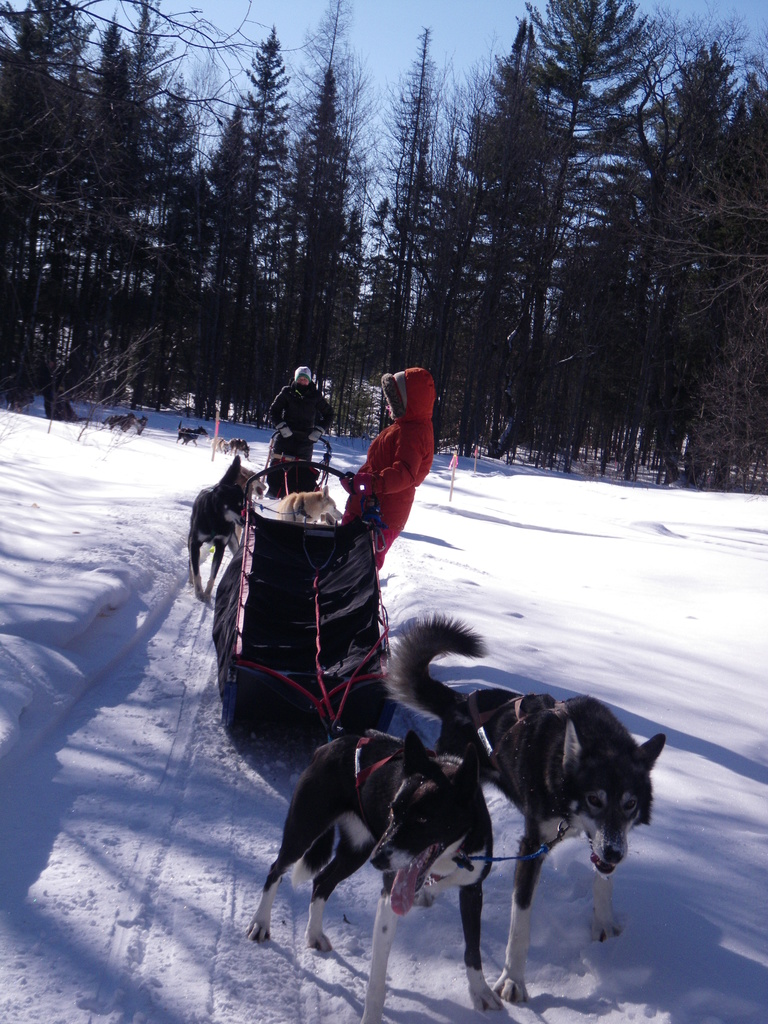Person: (335, 366, 435, 576), (265, 363, 337, 500)
